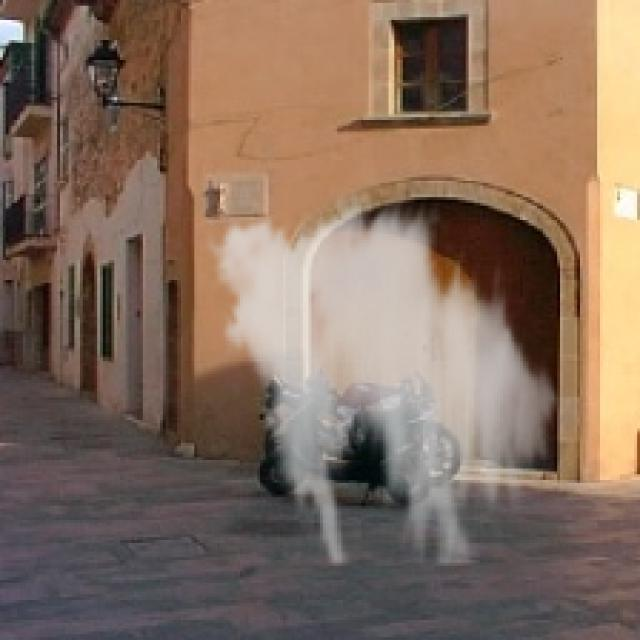smoke: (197, 188, 569, 566)
